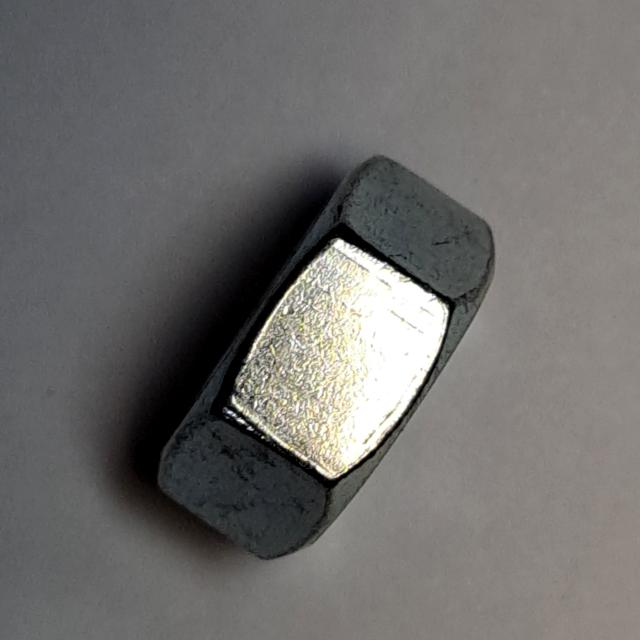Side_Excellent: (141, 141, 516, 575)
